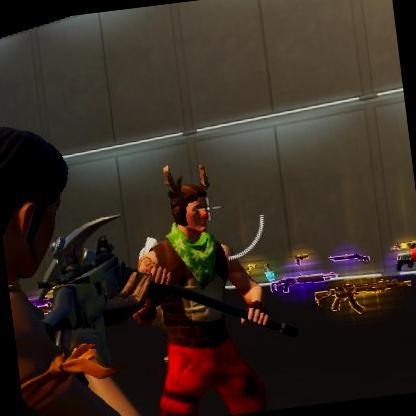person: (116, 170, 287, 416)
